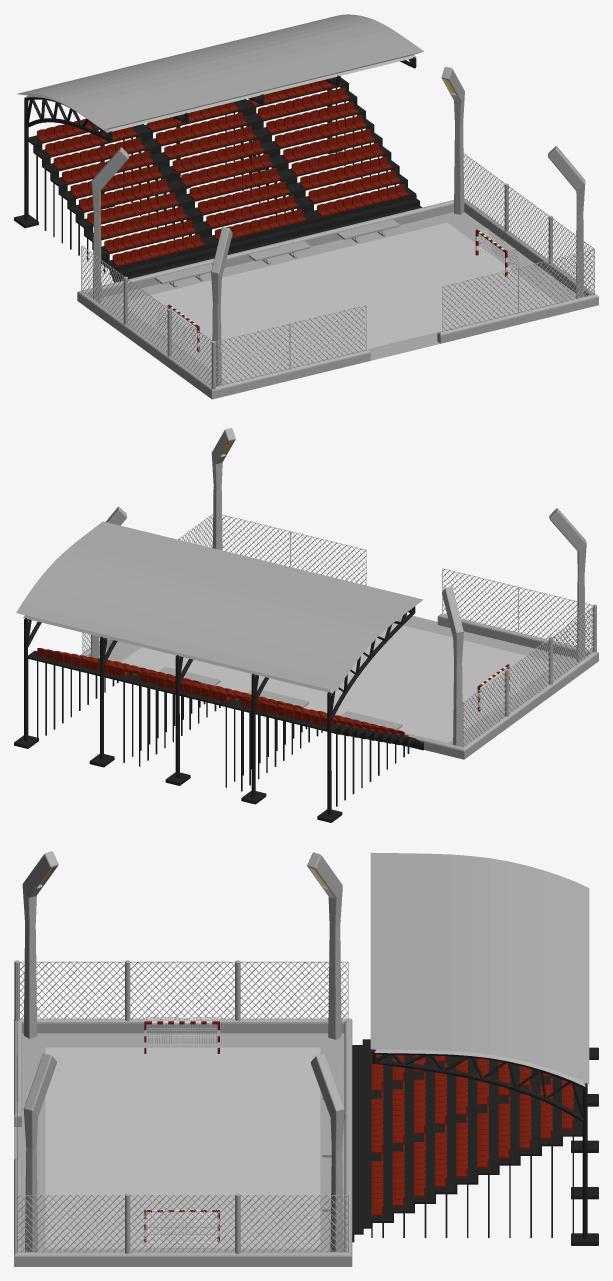
The model's file is Stadium.fbx.
3 views of the same model, one above another, from view 1: azimuth 30°, elevation 25°; view 2: azimuth 150°, elevation 25°; view 3: azimuth 270°, elevation 25° (orthographic). The views are drawn at different scales.
Parts seen in each view (by area): view 1: turbine, court, goal1, goal2; view 2: turbine, court, goal2; view 3: court, turbine, goal2, goal1.
Boxes of the visible parts, x1,y1,x2,y2 form: turbine: [14, 14, 423, 282]; court: [77, 66, 598, 399]; goal1: [475, 228, 520, 276]; goal2: [155, 304, 199, 354]; turbine: [14, 521, 423, 822]; court: [80, 428, 598, 759]; goal2: [477, 664, 522, 714]; court: [14, 851, 352, 1266]; turbine: [352, 852, 598, 1245]; goal2: [144, 1016, 219, 1053]; goal1: [144, 1210, 219, 1250].
Size of the model in its own units: 2650 by 1032 by 2768.
